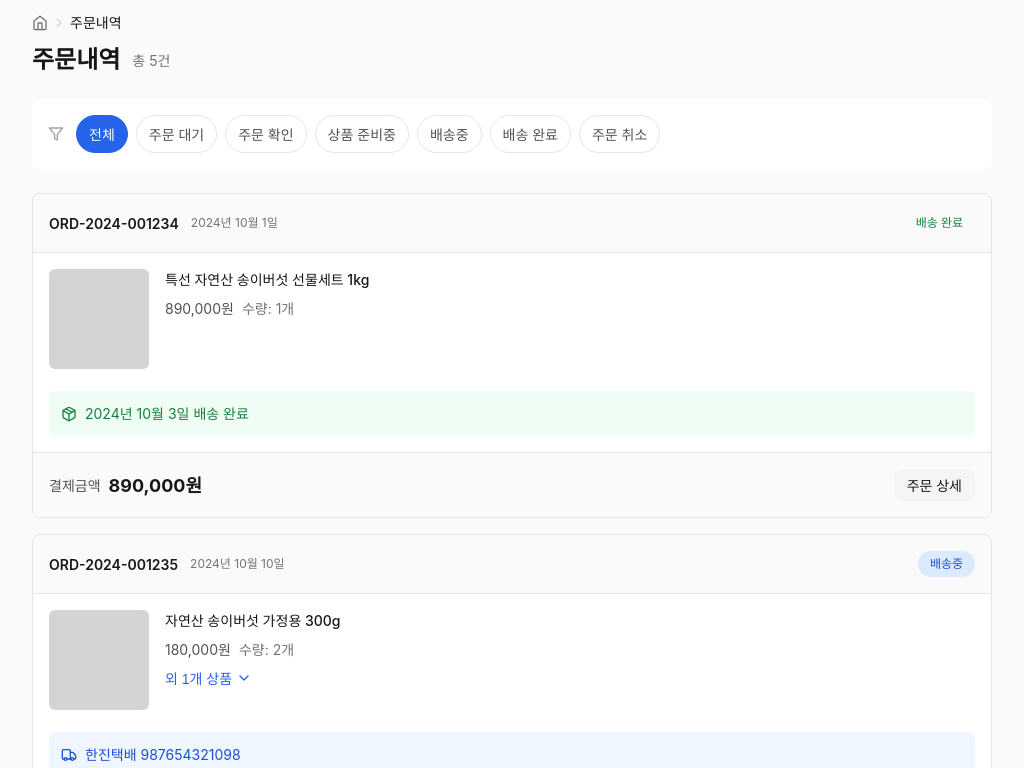
Test: OrdersPage › status filters › should show no results message when filter has no matches
Click the button "주문 대기".
click(176, 134)  # box [136,115,217,153]
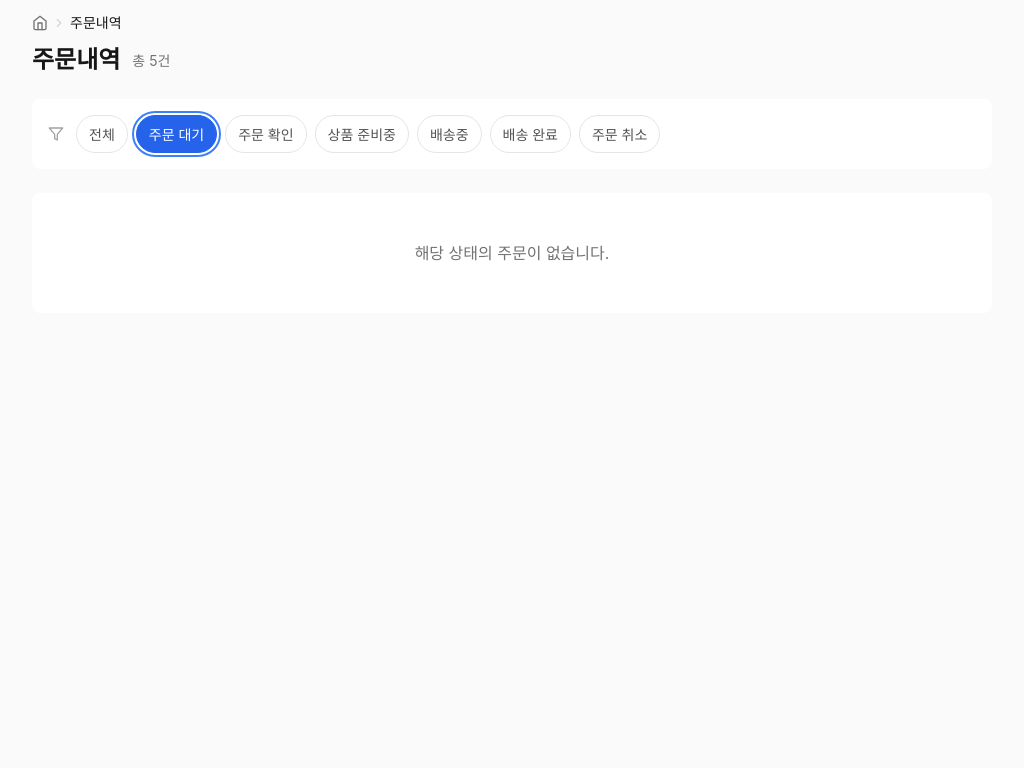
Result: the text "해당 상태의 주문이 없습니다." is shown at [415,243,609,263]
